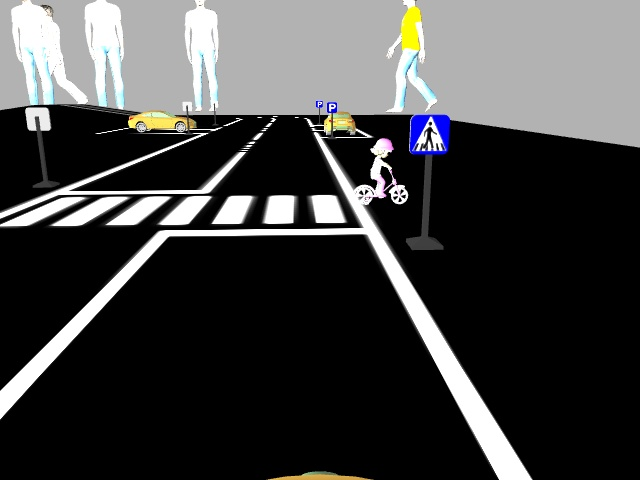Crosswalk: (410, 113, 448, 153)
Parking: (325, 102, 338, 114)
Pedestrian: (345, 136, 409, 206)
